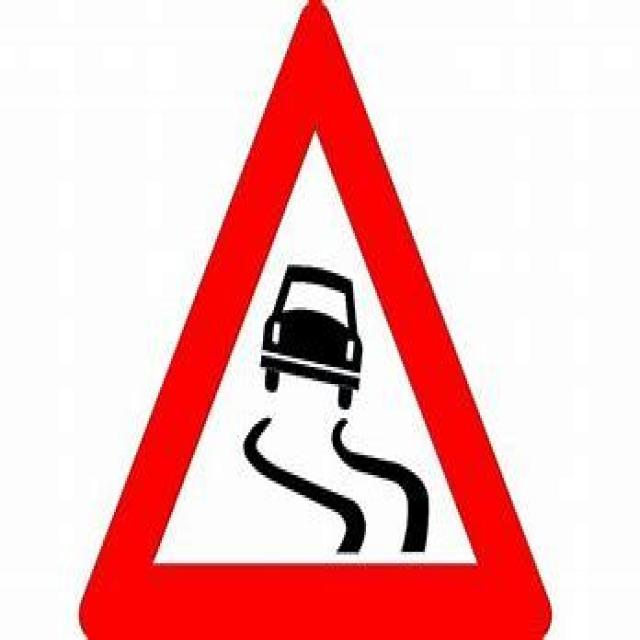children: (77, 0, 552, 637)
